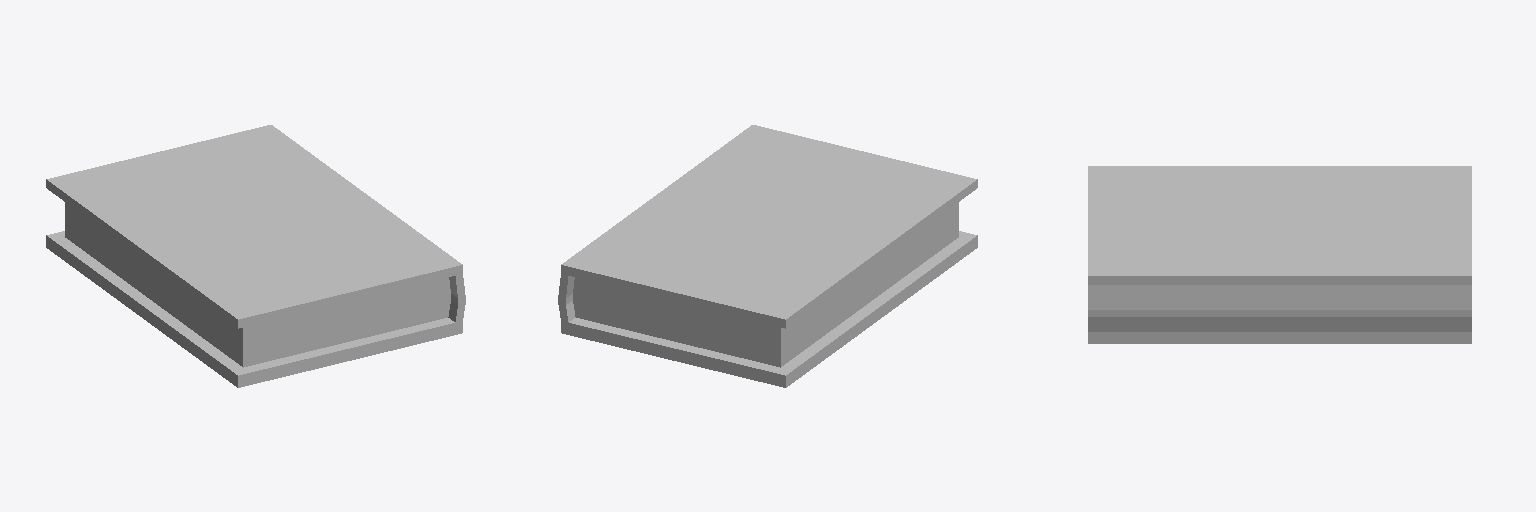
Rendered from book.obj.
3 views of the same model, side by side, from view 1: azimuth 30°, elevation 25°; view 2: azimuth 150°, elevation 25°; view 3: azimuth 270°, elevation 25° (orthographic).
Size of the model in its own units: 23.09 by 6.64 by 33.7.